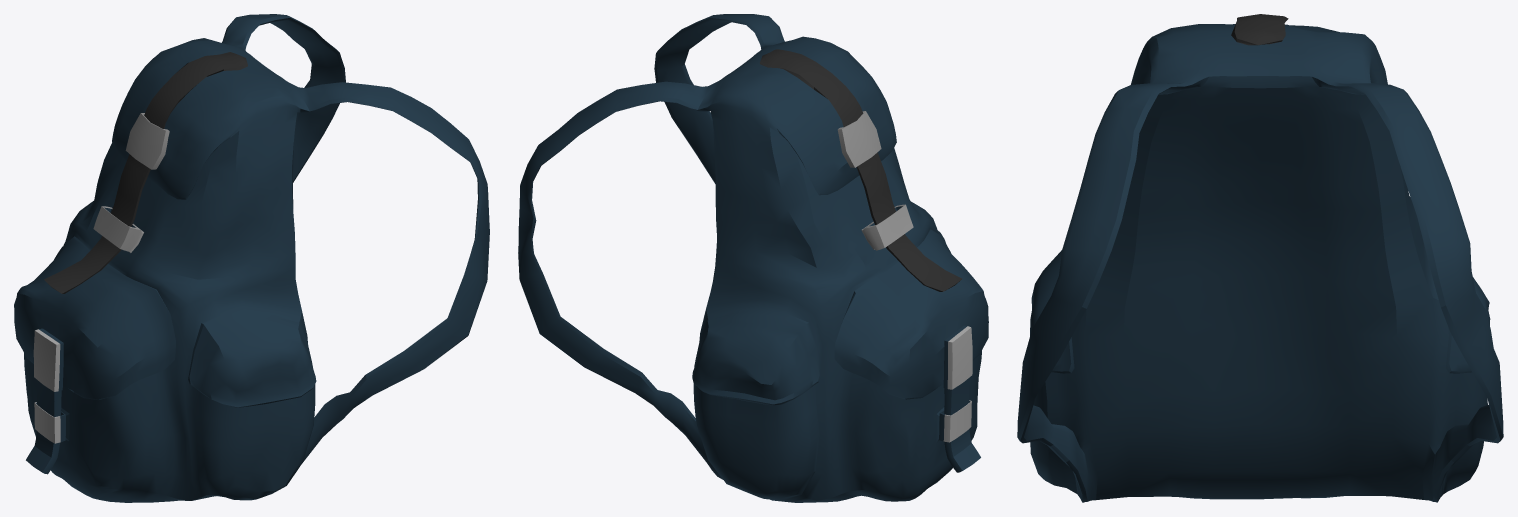
Rendered from canta.fbx.
The picture shows the model from 3 angles, left to right: view 1: azimuth 30°, elevation 25°; view 2: azimuth 150°, elevation 25°; view 3: azimuth 270°, elevation 25°; orthographic projection. The views are drawn at different scales.
Visible parts, largest first — view 1: canta; view 2: canta; view 3: canta.
Boxes of the visible parts, <box> form: canta: <box>14,14,489,502</box>; canta: <box>518,14,988,502</box>; canta: <box>1017,14,1503,502</box>.
Bounding box in the file's own units: 127 × 126 × 107.
